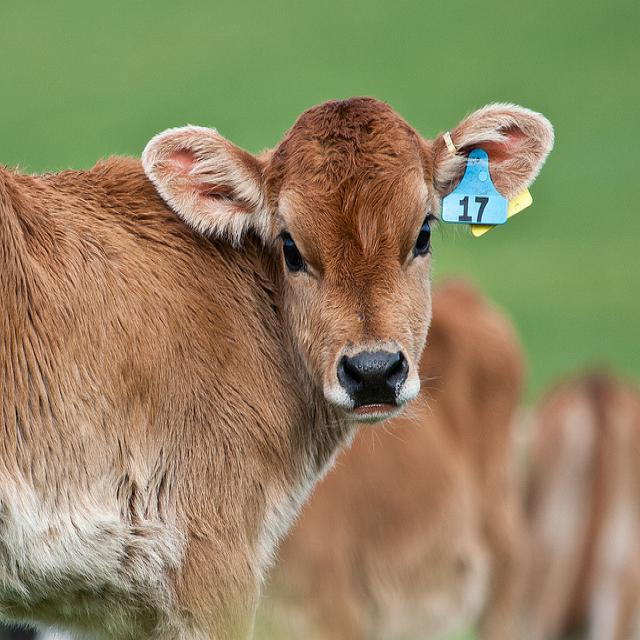cow: (0, 94, 557, 631), (249, 271, 639, 639)
